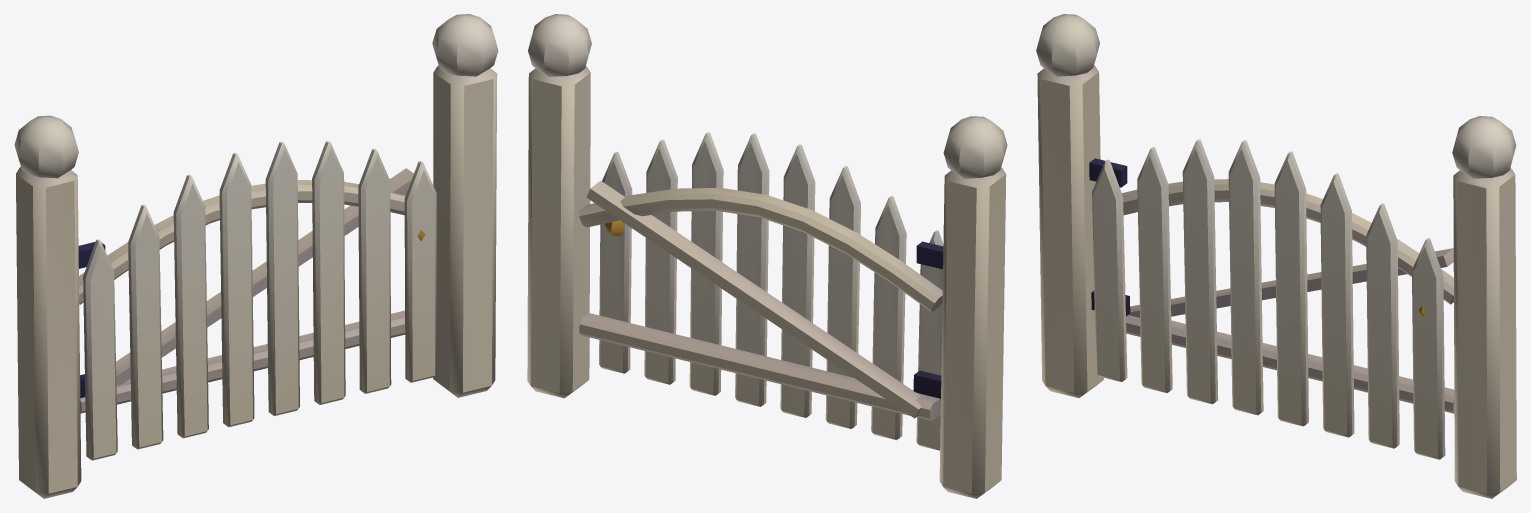
The model's file is common_town_gate.glb.
3 renders of one model, left to right at view 1: azimuth 30°, elevation 25°; view 2: azimuth 150°, elevation 25°; view 3: azimuth 330°, elevation 25°, orthographic.
Visible parts, largest first — view 1: common_town_gate; view 2: common_town_gate; view 3: common_town_gate.
Boxes of the visible parts, x1,y1,x2,y2 form: common_town_gate: [14, 14, 498, 498]; common_town_gate: [527, 14, 1007, 498]; common_town_gate: [1036, 14, 1516, 498].
Size of the model in its own units: 2.3 by 1.72 by 0.286.
